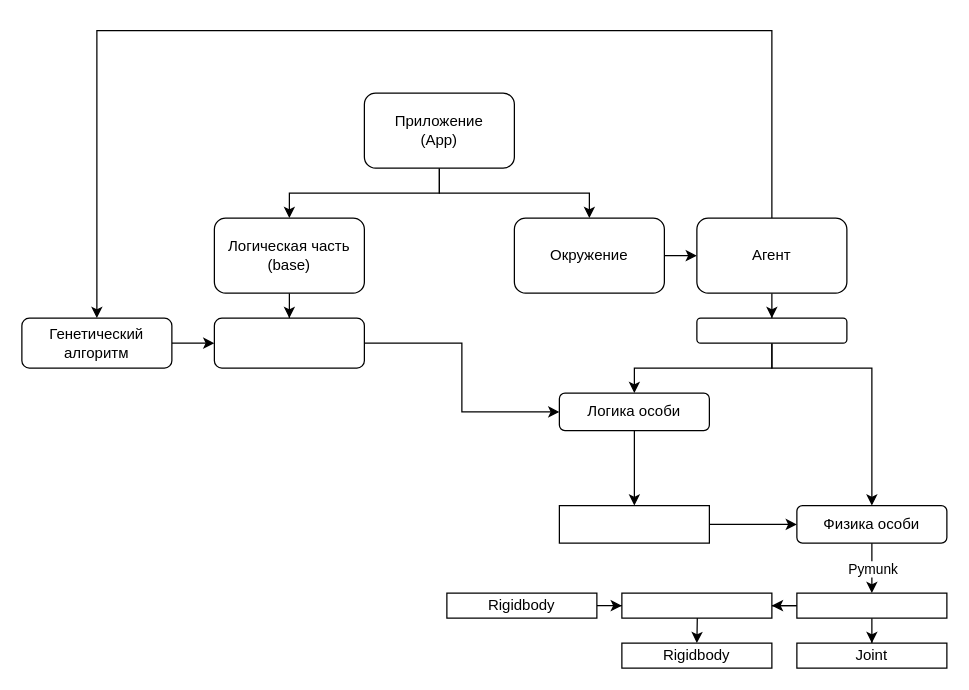
The diagram is 969 pixels wide and 690 high, and some of its shapes have lost their labels. Each missing label, with the centre of its shape:
"Rect" belongs at point 696,605.
"Sprite" belongs at point 871,605.
"Нейросеть" belongs at point 288,342.
"Организация движения особи" belongs at point 633,523.
"Особь" belongs at point 771,330.
